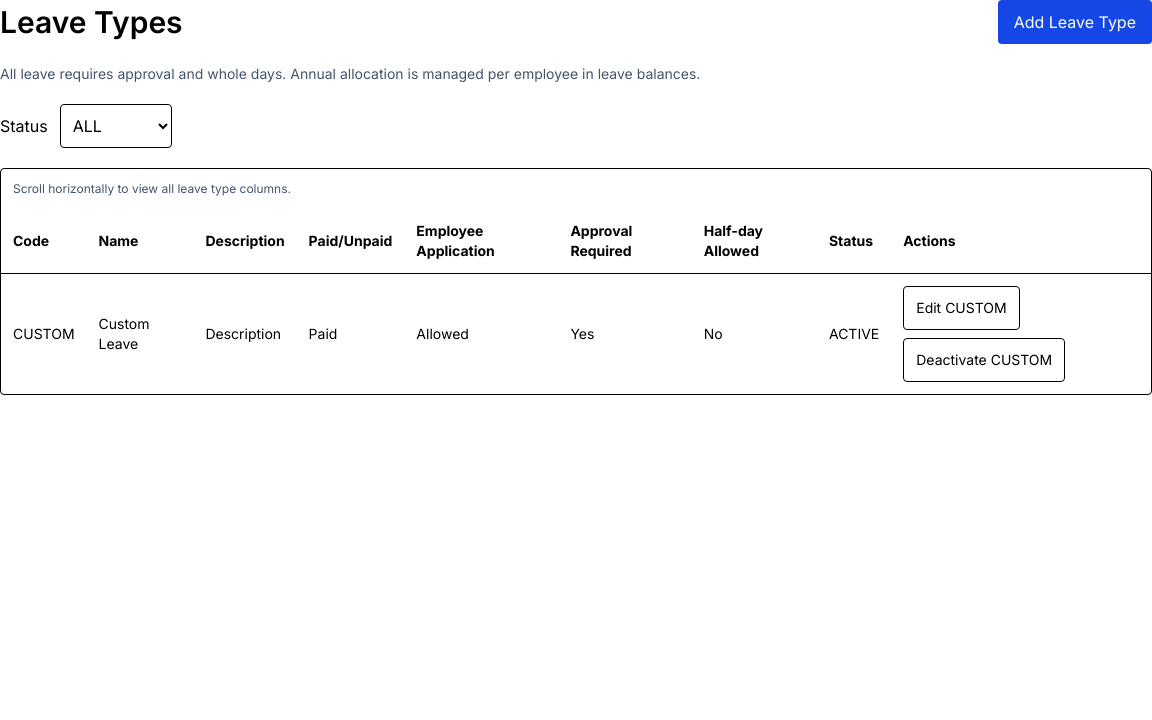
Phase 12 leave types › validates Code * before writes
Click the button "Add Leave Type" at (1075, 22), box [998, 0, 1151, 44]
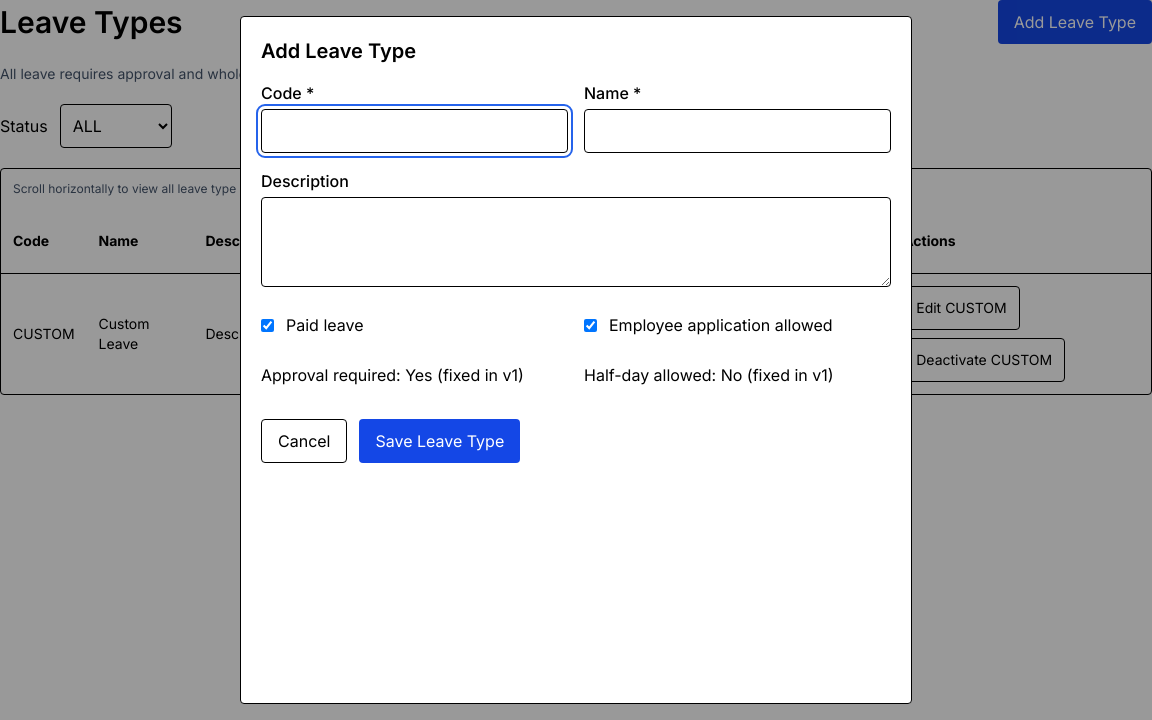
Type " new_12 " into the field labelled "Code *" at (414, 131), box [261, 109, 568, 153]
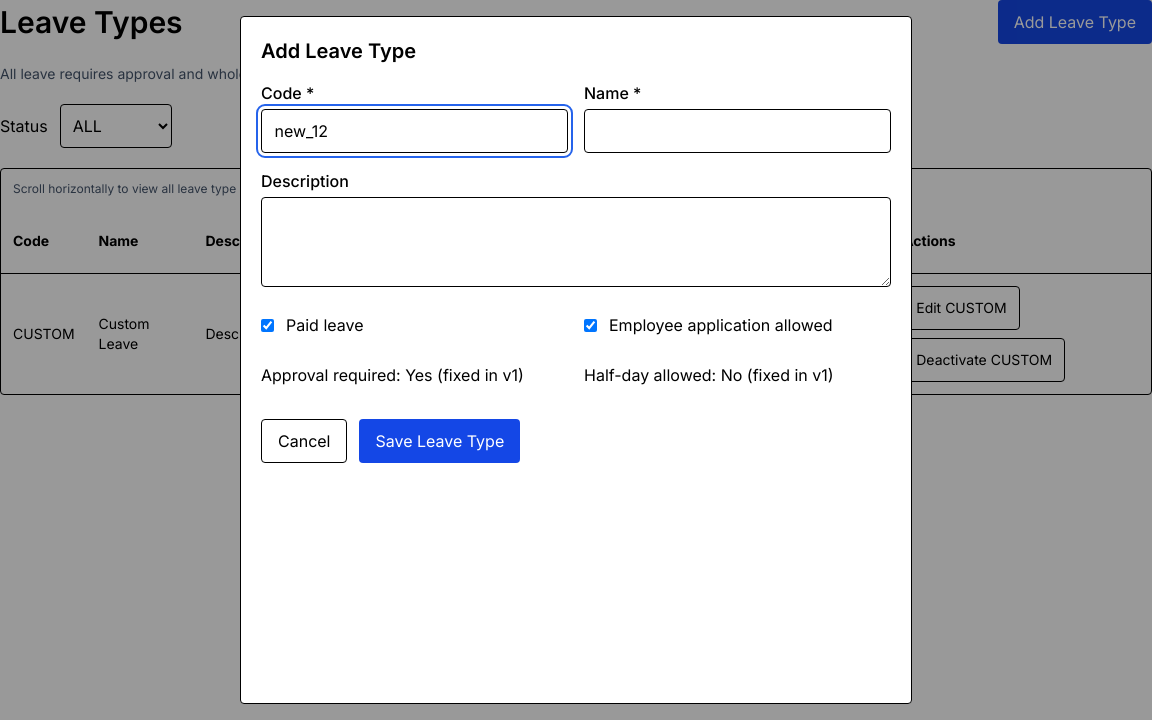
Type " New Type " into the field labelled "Name *" at (738, 131), box [584, 109, 891, 153]
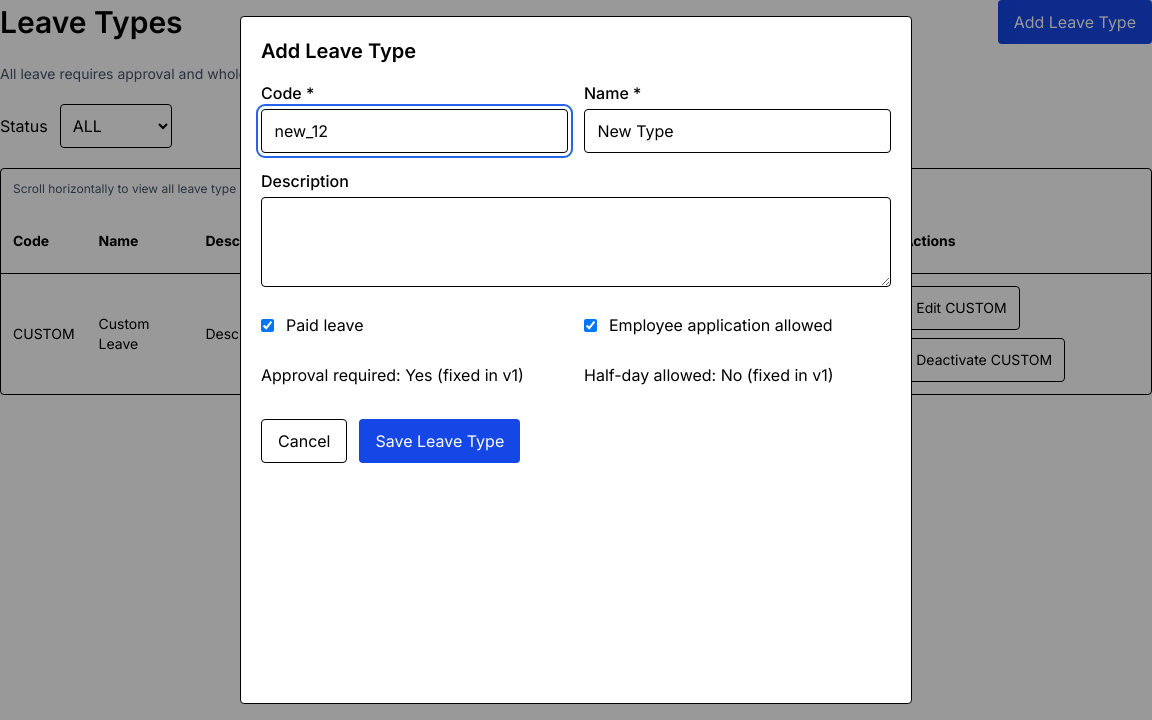
Replace the text in the field labelled "Code *" with "bad-code" at (414, 131), box [261, 109, 568, 153]
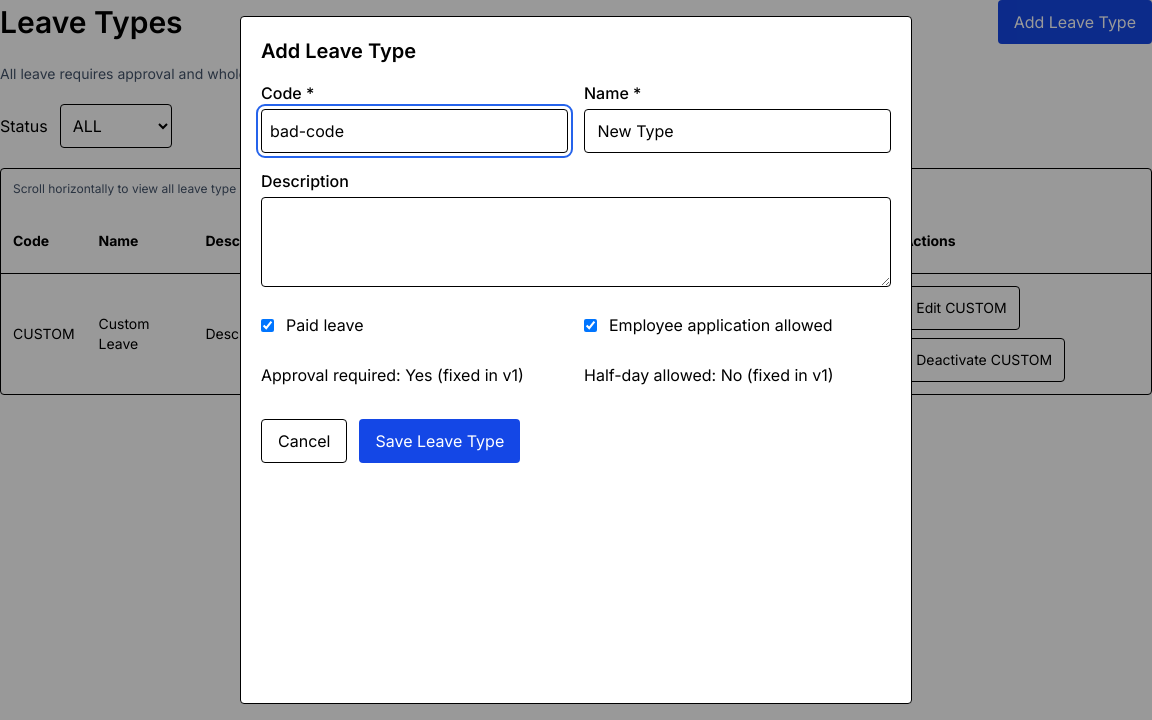
Click the button "Save Leave Type" at (440, 441), box [360, 419, 520, 463]
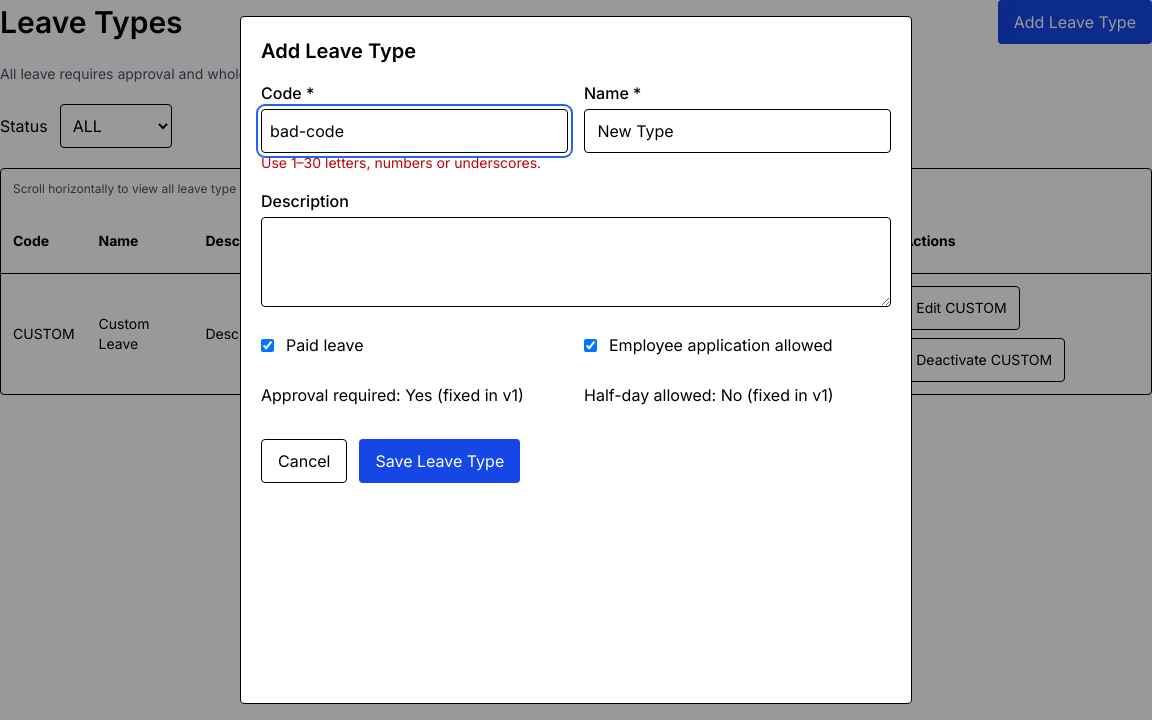
Expected: the text "Use 1–30 letters, numbers or underscores." is shown, [261, 153, 568, 173]
